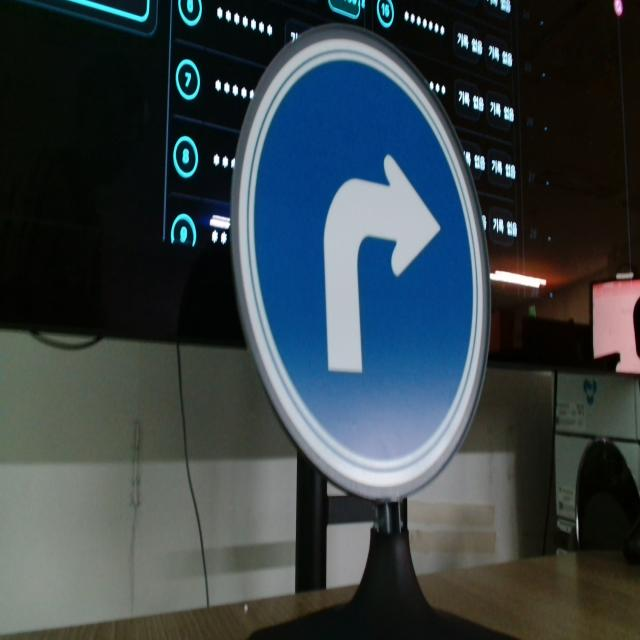right_dierection: (226, 9, 494, 524)
